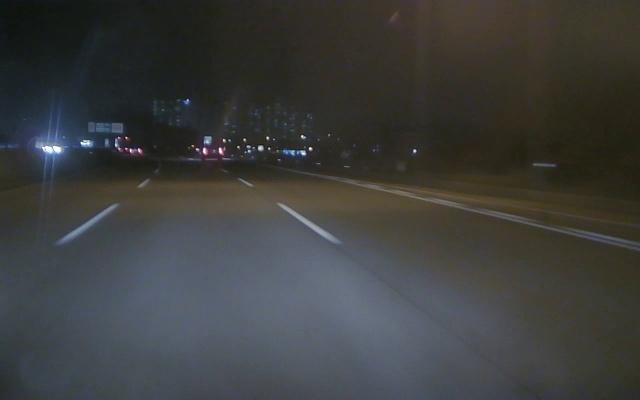lane: (355, 184, 637, 251), (0, 177, 152, 276), (240, 179, 344, 244), (54, 178, 151, 245)
